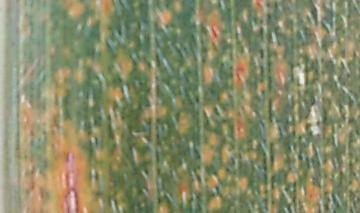tarspot: (258, 25, 265, 41), (258, 48, 264, 59), (297, 152, 304, 161), (194, 193, 201, 201), (142, 168, 149, 175), (224, 167, 231, 173), (200, 56, 206, 63), (266, 12, 271, 20), (265, 2, 270, 8), (270, 199, 275, 205), (120, 115, 124, 120), (331, 209, 336, 213)
